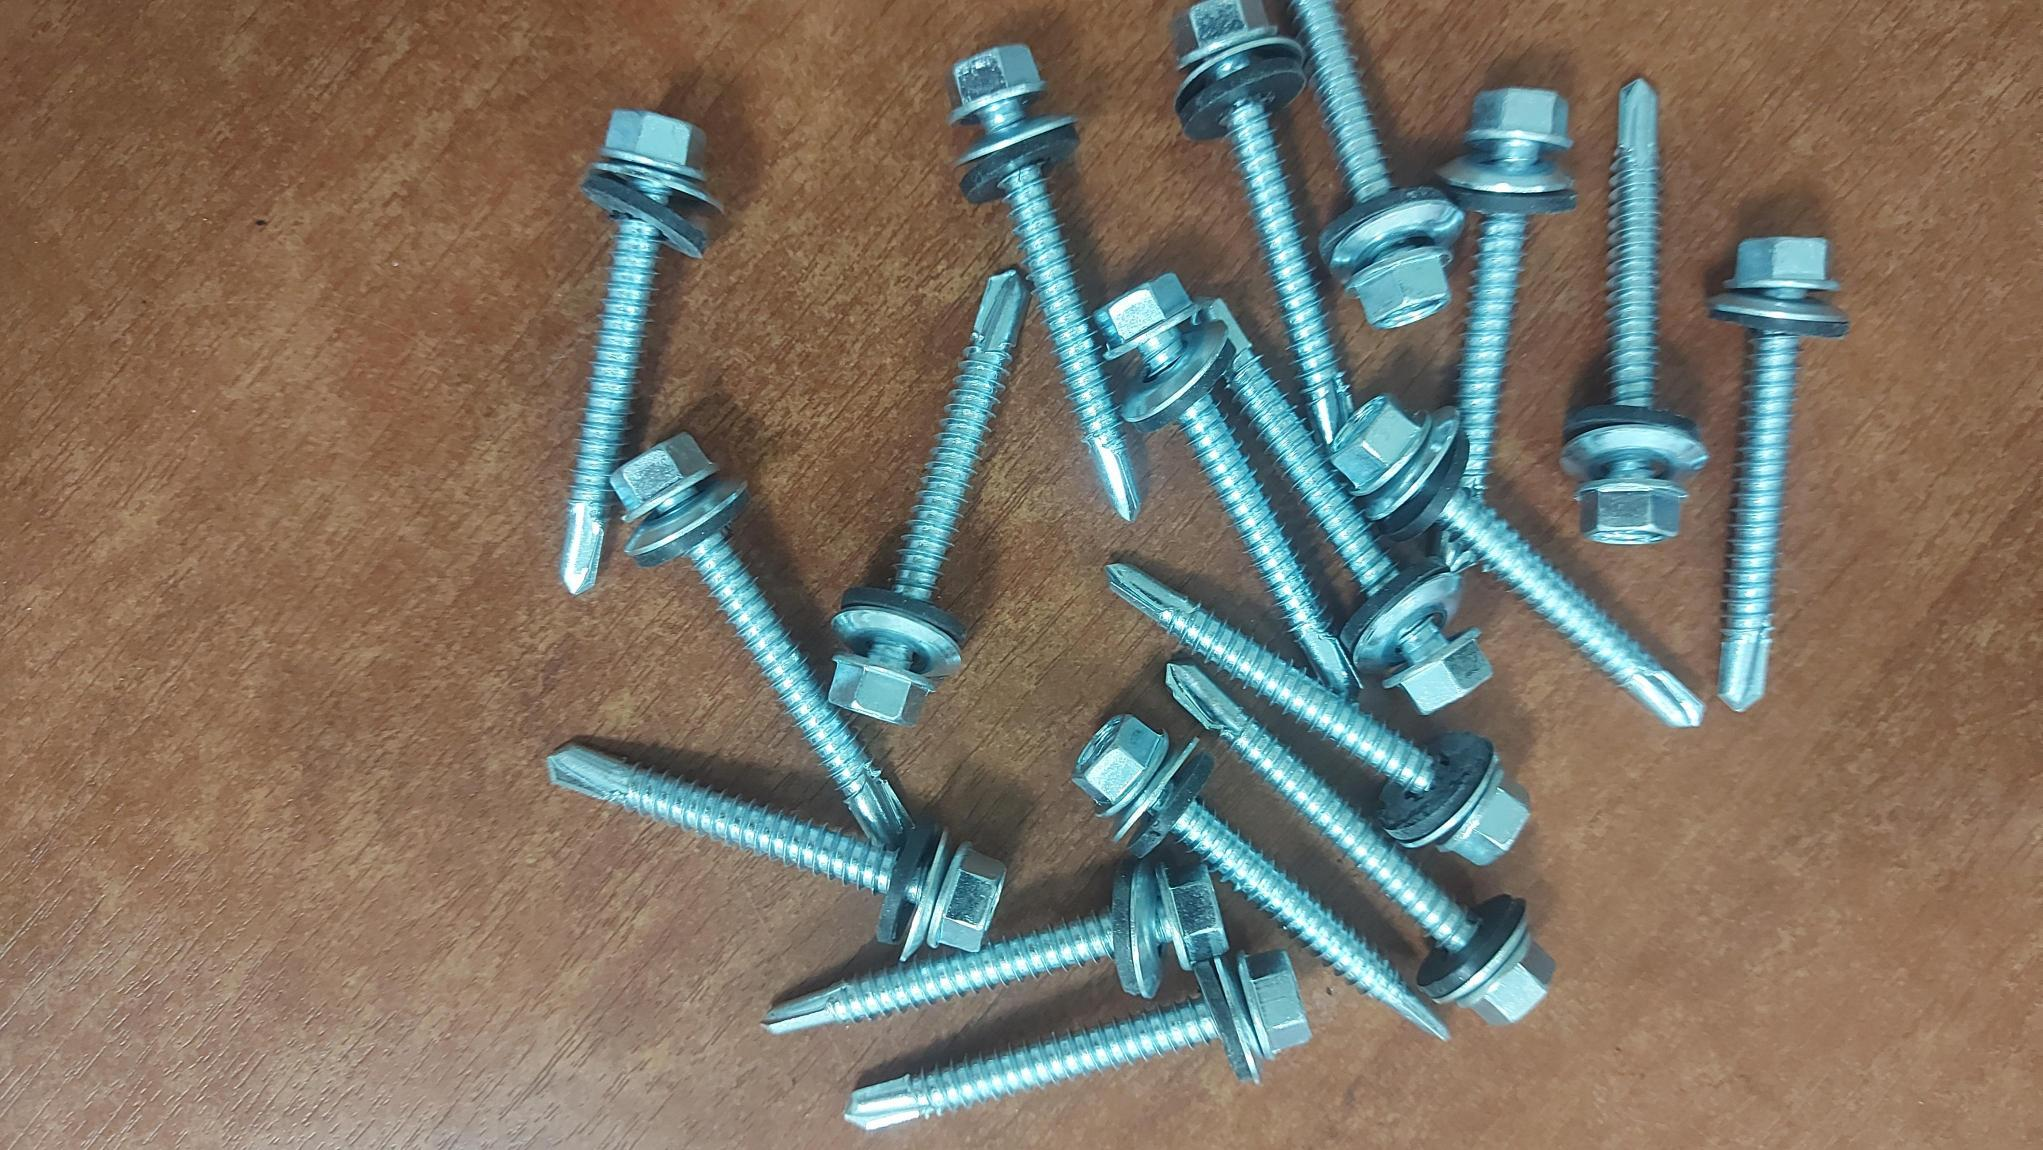Screw: (1165, 659, 1553, 1025), (603, 436, 916, 851), (1073, 714, 1447, 1039), (1333, 397, 1701, 726), (1201, 299, 1492, 712), (1096, 273, 1351, 694), (550, 739, 1010, 949), (842, 951, 1316, 1144), (829, 269, 1029, 724), (951, 43, 1141, 519), (765, 857, 1226, 1032), (558, 109, 720, 595), (1562, 79, 1706, 544), (1708, 236, 1848, 711), (1440, 88, 1574, 491)
